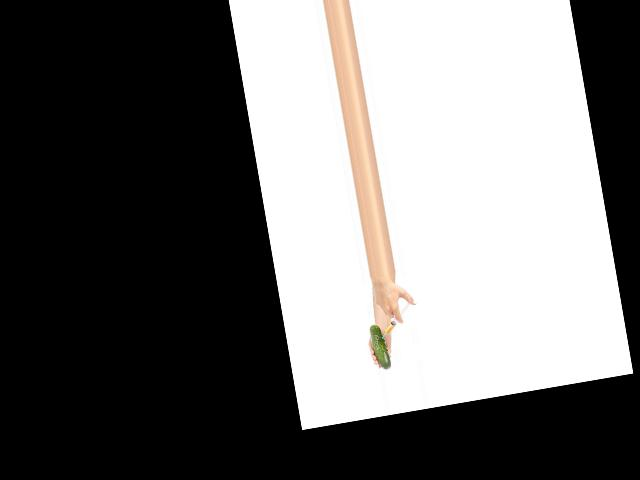cucumber: (369, 323, 391, 371)
